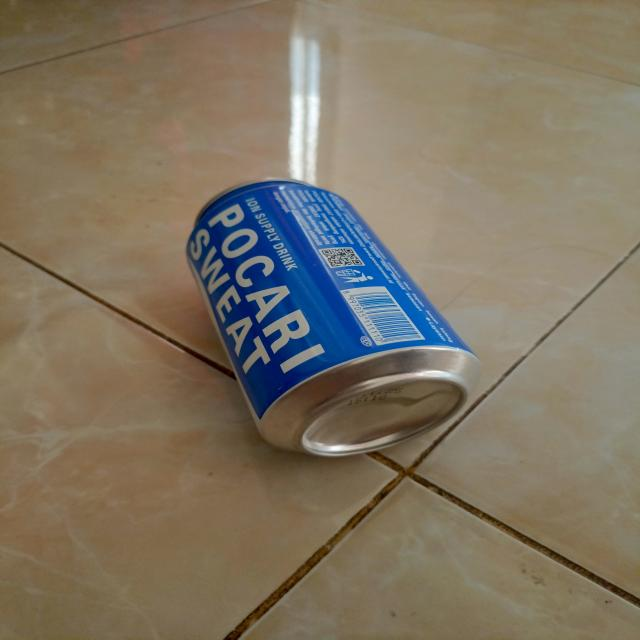pocari-sweat: (185, 178, 482, 457)
